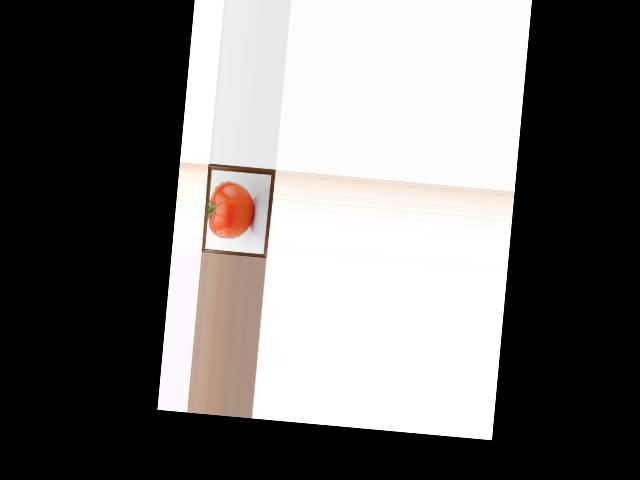tomato: (205, 179, 256, 240)
